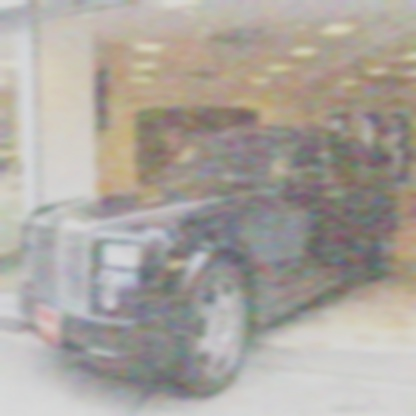Vehicle: (10, 104, 409, 401)
